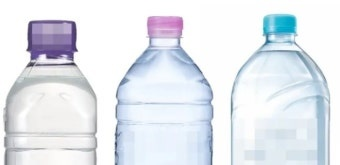plastic: (114, 15, 214, 165)
